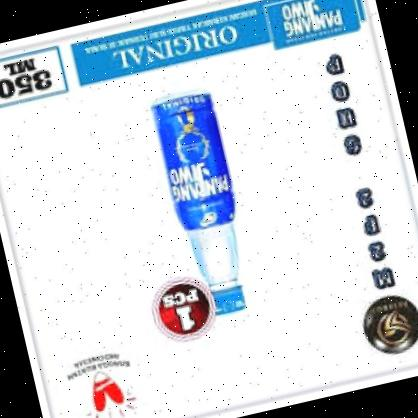bottle: (131, 82, 271, 334)
cap: (204, 278, 248, 319)
